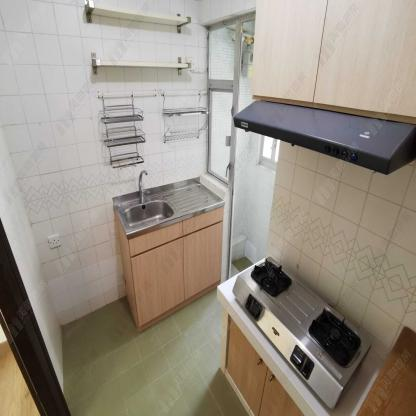Cupboard: (252, 2, 416, 123), (250, 0, 416, 119), (128, 206, 222, 323)
Exhaust Hood: (230, 97, 416, 181), (233, 102, 414, 175)
Faucet: (138, 168, 150, 203)
Sink: (117, 184, 223, 231), (112, 190, 186, 239)
Stove: (231, 251, 372, 412), (231, 256, 372, 411)
